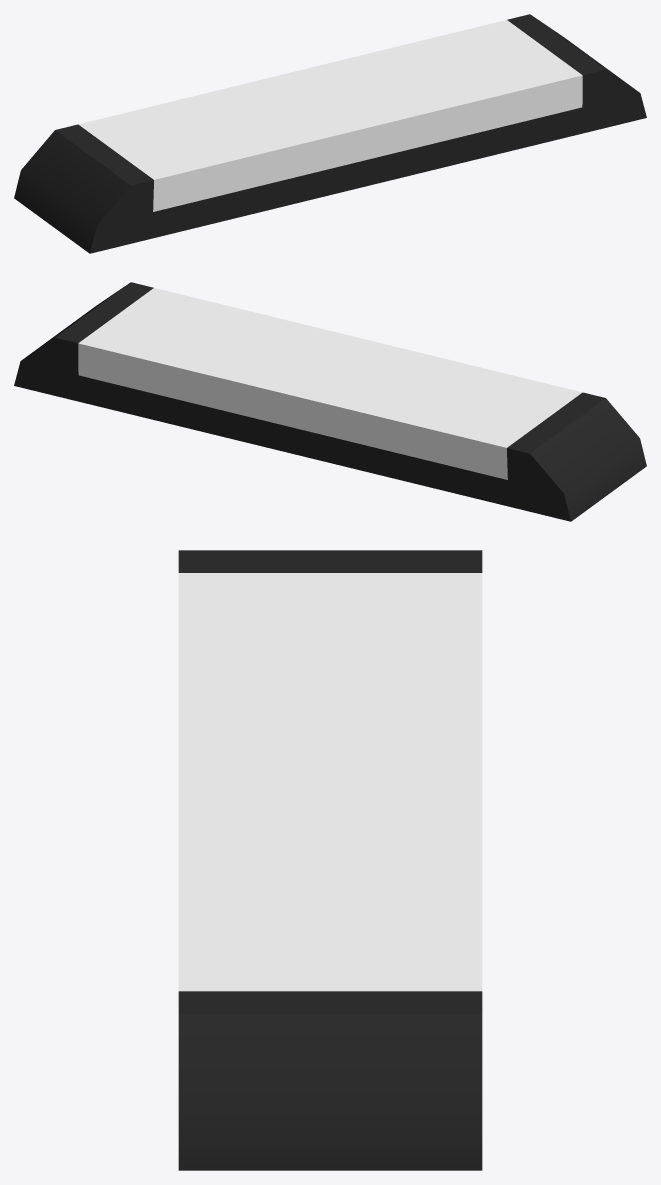
File: light4.FBX
The picture shows the model from 3 angles, top to bottom: view 1: azimuth 30°, elevation 25°; view 2: azimuth 150°, elevation 25°; view 3: azimuth 270°, elevation 25°; orthographic projection. The views are drawn at different scales.
Parts seen in each view (by area): view 1: light4; view 2: light4; view 3: light4.
Part boxes in pixels (x1=…): light4: x1=14, y1=14, x2=646, y2=253; light4: x1=14, y1=282, x2=646, y2=521; light4: x1=178, y1=550, x2=482, y2=1170.
Bounding box in the file's own units: 4.12 × 0.4109 × 0.9716.
